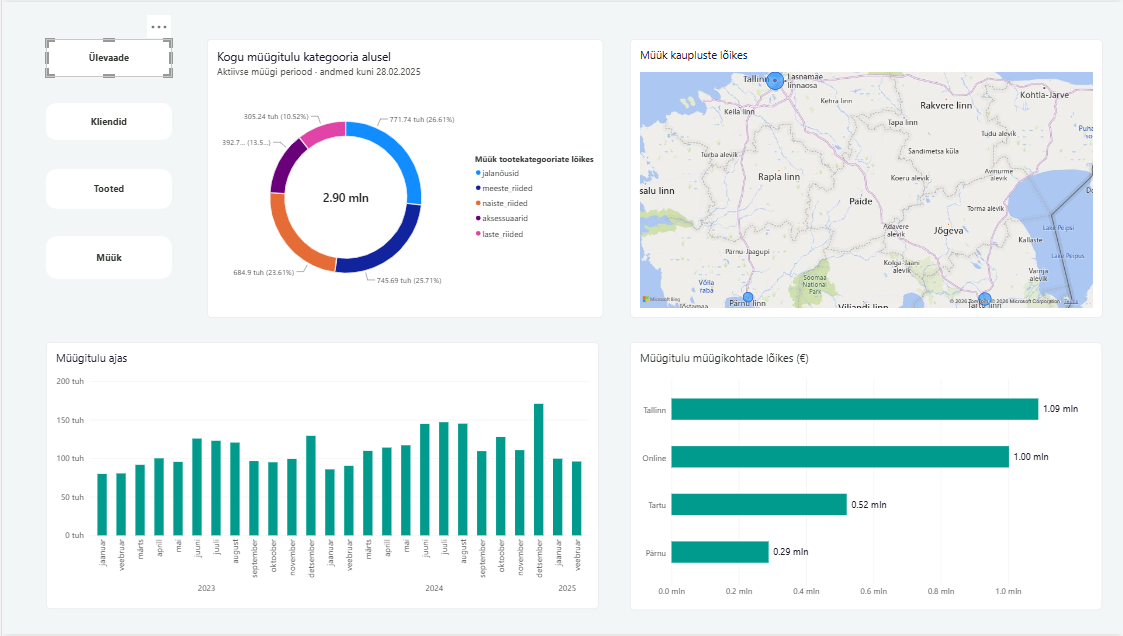

The page's visual inventory and layout, read from the dashboard file:
{"tool":"powerbi","page":{"name":"week 10","canvas":[1920,1080],"ordinal":0},"visuals":[{"type":"textbox","box":[62.5,85,412.5,87.5],"z":0},{"type":"map","title":"Müük kaupluste lõikes","fields":{"Category":["public sales.store_location"],"Size":["public sales.Kogu müügitulu"]},"box":[1074.7,63.3,809.4,477.4],"z":1000},{"type":"donutChart","title":"Kogu müügitulu kategooria alusel","fields":{"Category":["public products.category"],"Y":["public sales.Kogu müügitulu"]},"box":[350.8,63.3,678,477.4],"z":2000},{"type":"columnChart","title":"Müügitulu ajas","fields":{"Category":["public sales.sale_date.Variatsioon.Kuupäeva hierarhia.Aasta","public sales.sale_date.Variatsioon.Kuupäeva hierarhia.Kuu"],"Y":["public sales.Kogu müügitulu"]},"box":[75.3,581.8,946.3,456.9],"z":3000},{"type":"clusteredBarChart","title":"Müügitulu müügikohtade lõikes (€)","fields":{"Category":["public sales.Müügikoht"],"Y":["public sales.Kogu müügitulu"]},"box":[1074.7,581.8,807.7,458.6],"z":4000},{"type":"actionButton","box":[75.3,172.8,215.6,63.3],"z":6000},{"type":"actionButton","box":[75.3,285.8,215.6,68.4],"z":7000},{"type":"actionButton","box":[75.3,400.4,215.6,73.6],"z":8000},{"type":"actionButton","box":[75.3,63.3,215.6,65],"z":9000}]}

Visuals, with their boxes on the page's 1920x1080 design canvas (x1, y1, x2, y2). These are canvas units, not pixel positions in the 1123x636 screenshot, which may show the page scaled, cropped or inside an application window:
textbox: box=[62, 85, 475, 172]
"Müük kaupluste lõikes" map: box=[1075, 63, 1884, 541]
"Kogu müügitulu kategooria alusel" donutChart: box=[351, 63, 1029, 541]
"Müügitulu ajas" columnChart: box=[75, 582, 1022, 1039]
"Müügitulu müügikohtade lõikes (€)" clusteredBarChart: box=[1075, 582, 1882, 1040]
actionButton: box=[75, 173, 291, 236]
actionButton: box=[75, 286, 291, 354]
actionButton: box=[75, 400, 291, 474]
actionButton: box=[75, 63, 291, 128]
